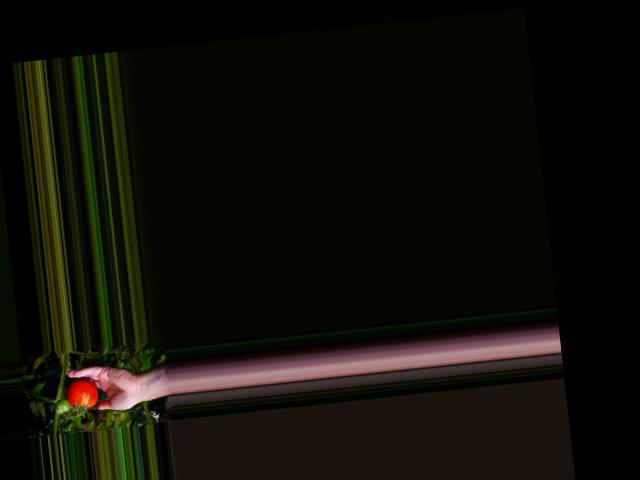tomato: (63, 378, 100, 410)
